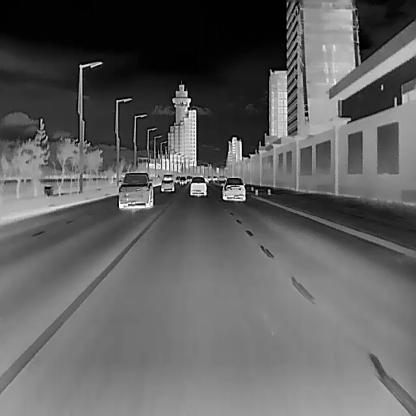car: (118, 170, 152, 208), (220, 176, 245, 201), (189, 174, 206, 196), (161, 172, 174, 192), (179, 176, 185, 184)
